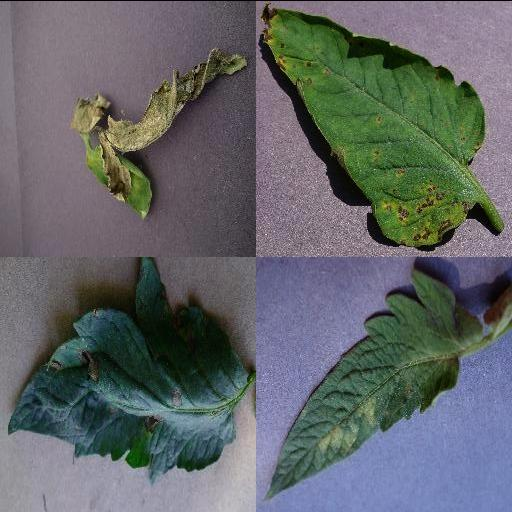Early Blight: (6, 256, 256, 480)
Late Blight: (73, 45, 249, 217)
Leaf Mold: (264, 267, 482, 499)
Septoria: (261, 5, 485, 244)
